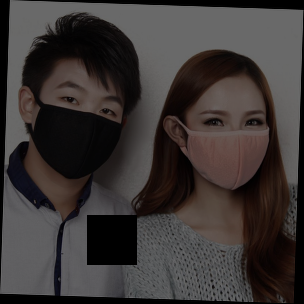with_mask: (31, 80, 125, 183), (187, 106, 270, 194)
